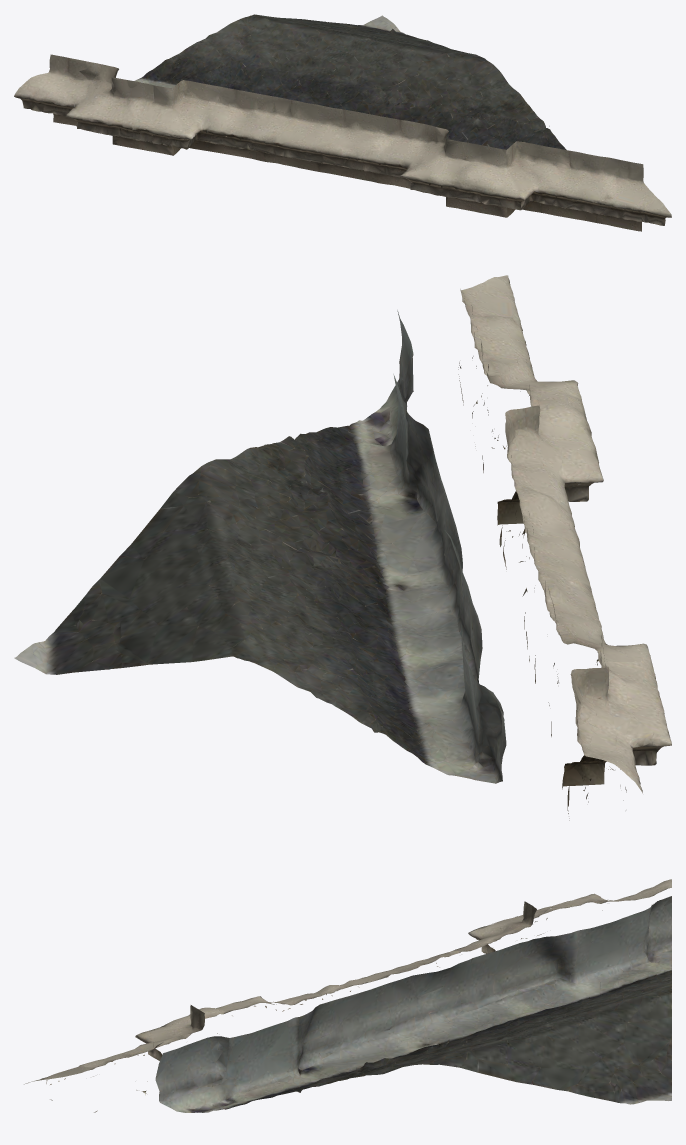
The picture shows the model from 3 angles, top to bottom: view 1: azimuth 30°, elevation 25°; view 2: azimuth 150°, elevation 25°; view 3: azimuth 270°, elevation 25°; orthographic projection. The views are drawn at different scales.
Bounding box in the file's own units: 10.86 × 1.92 × 14.78.
Materials: 1 (1 with a texture image).
